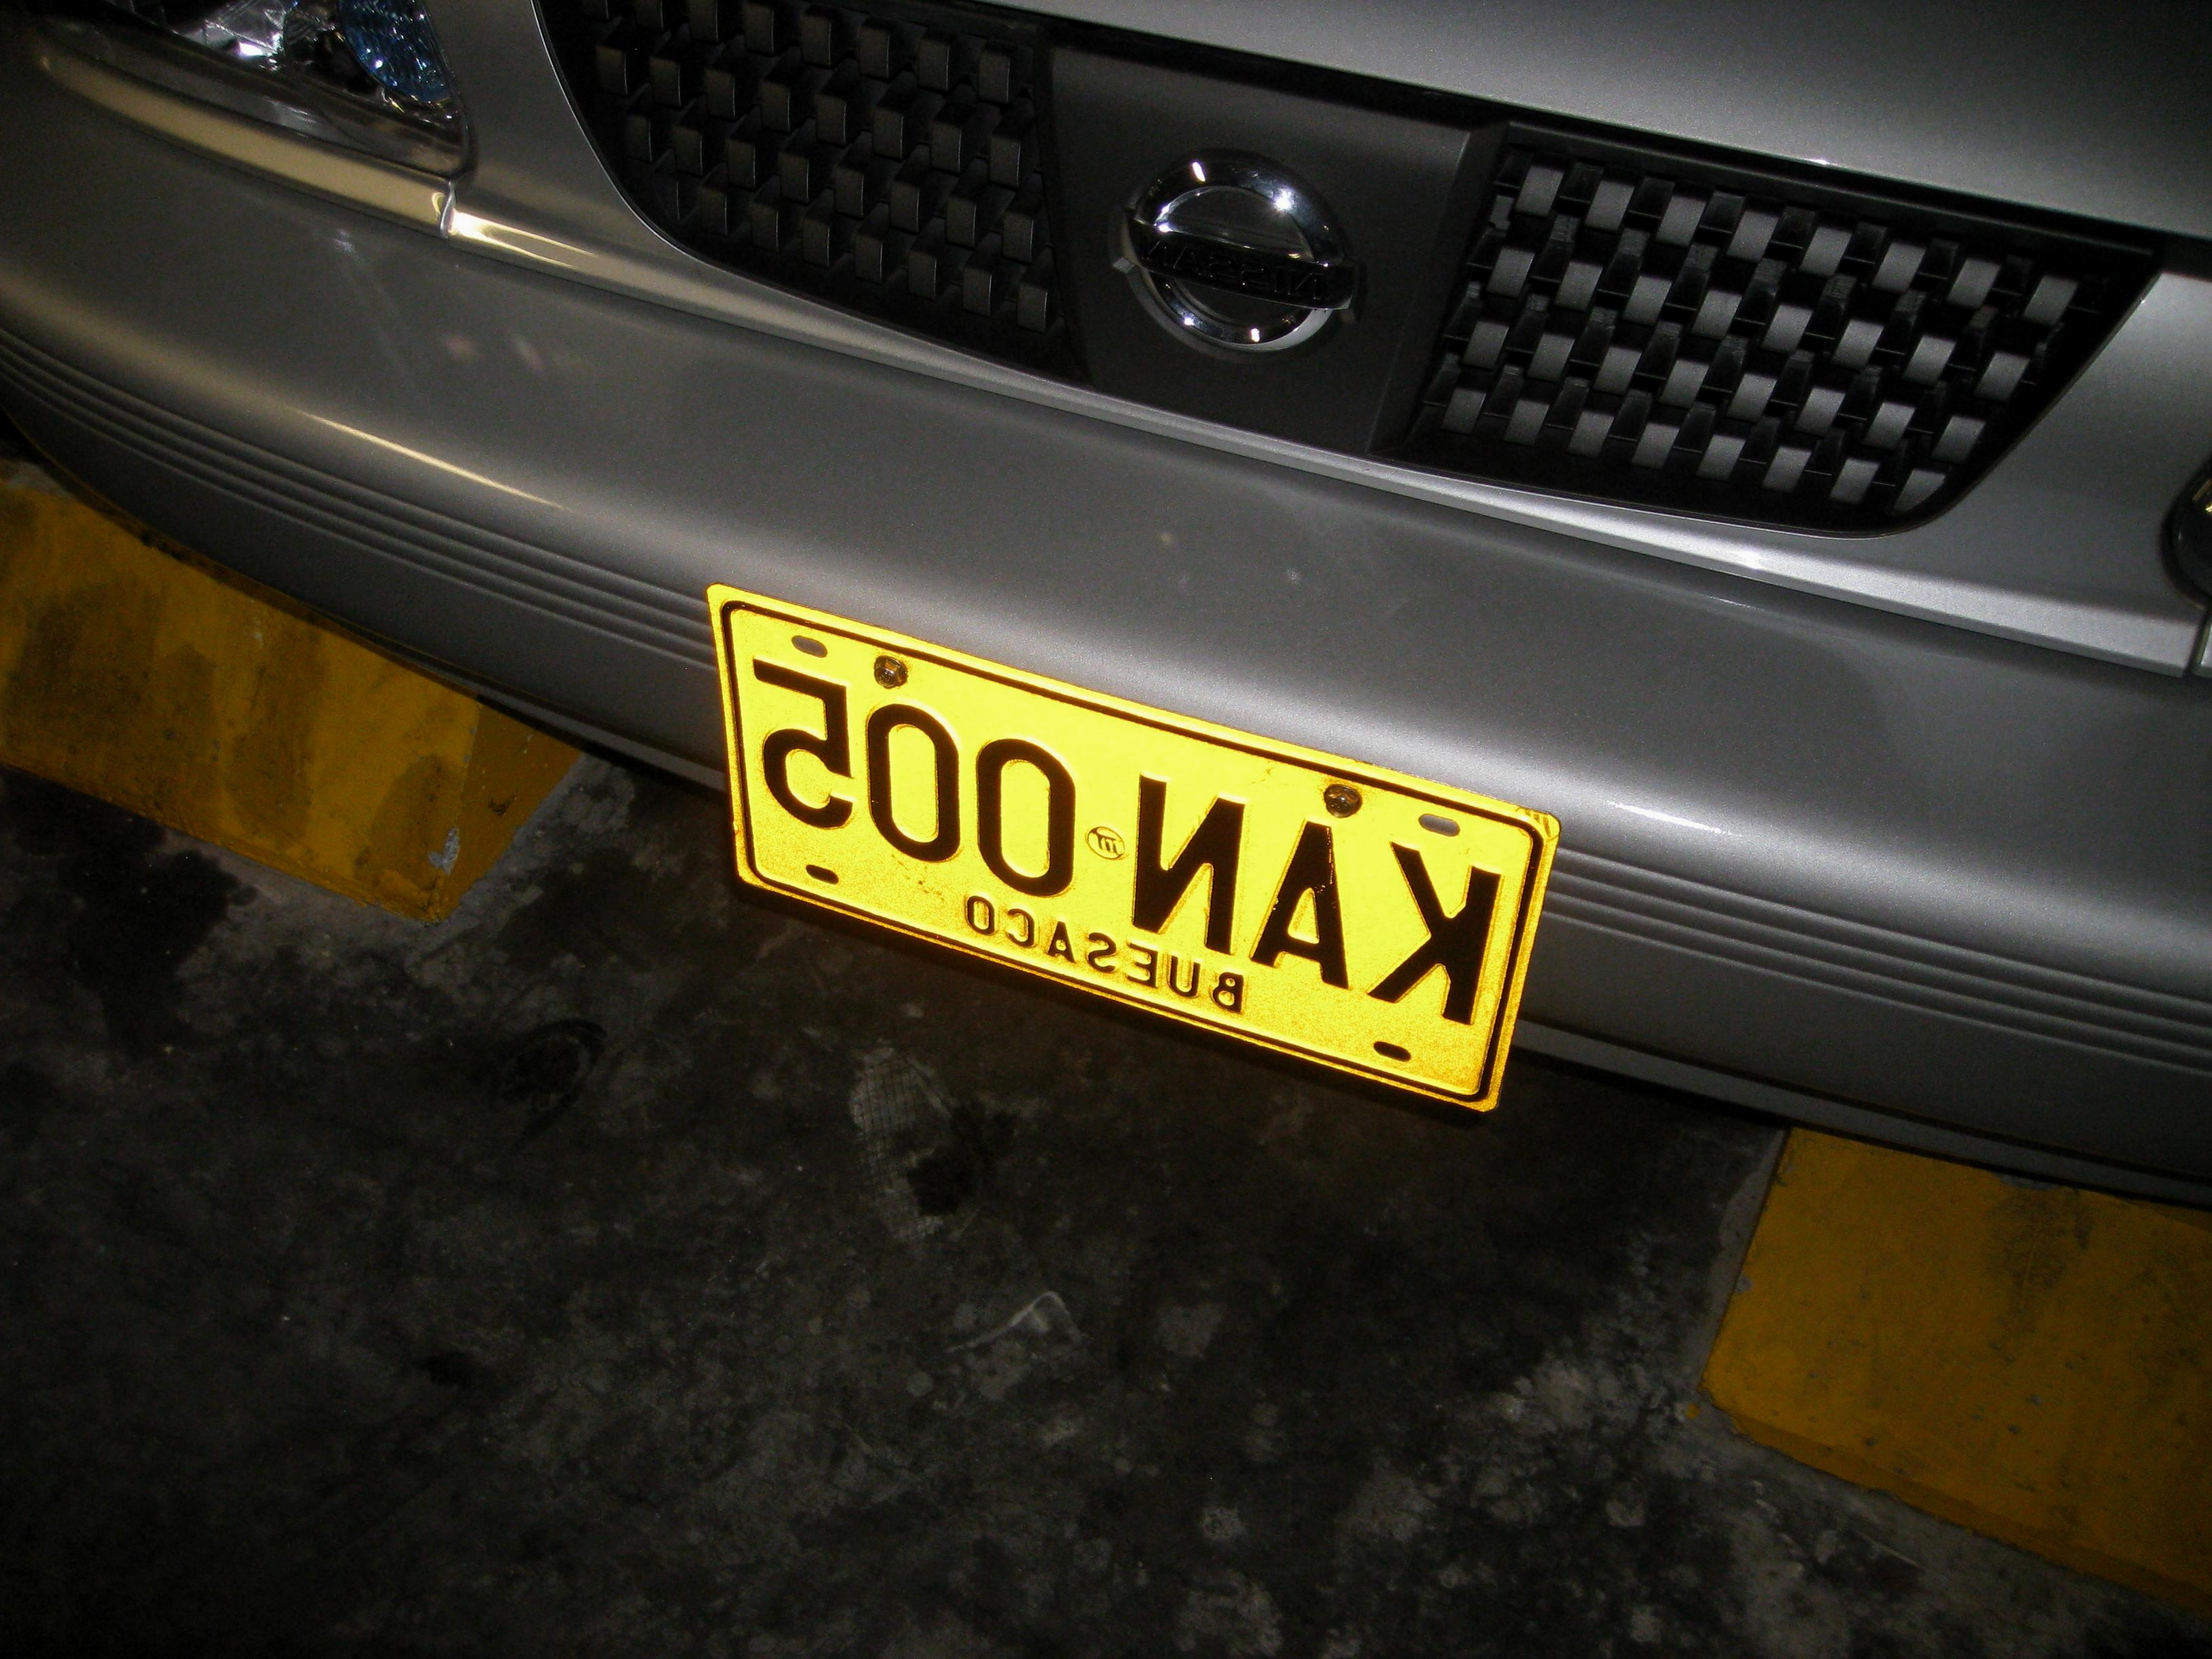placas: (704, 565, 1568, 1120)
